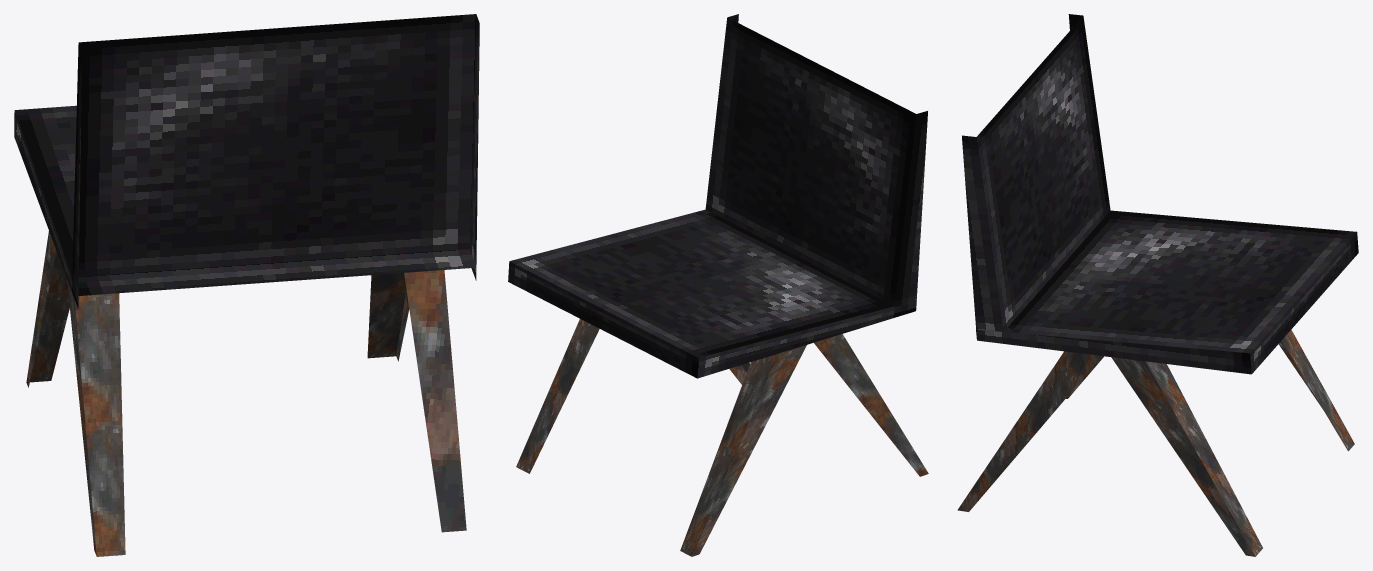
The model's file is primary_103.glb.
The picture shows the model from 3 angles, left to right: view 1: azimuth 30°, elevation 25°; view 2: azimuth 150°, elevation 25°; view 3: azimuth 270°, elevation 25°; orthographic projection. The views are drawn at different scales.
Parts seen in each view (by area): view 1: Object; view 2: Object; view 3: Object.
Boxes of the visible parts, x1,y1,x2,y2 form: Object: (14,14,479,556); Object: (508,14,928,556); Object: (957,14,1358,556).
Size of the model in its own units: 1.09 by 1.16 by 1.1.
2 materials, 2 textured.
